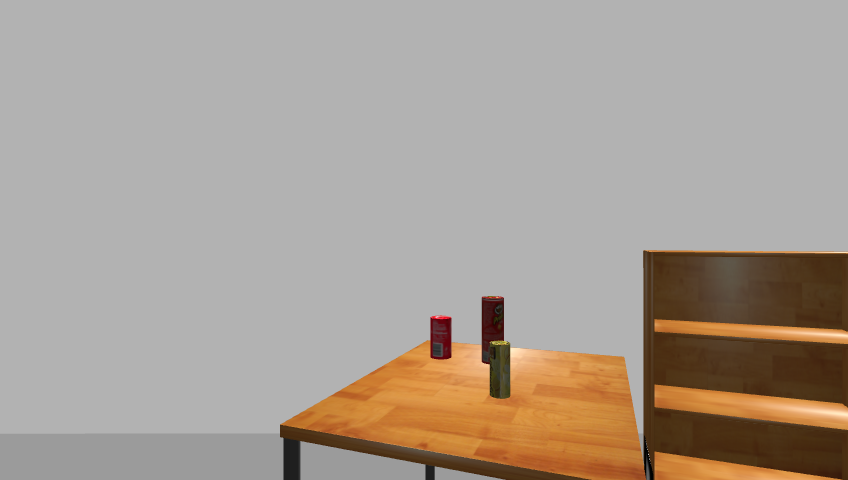biscuits pack: (489, 341, 512, 399)
bookshelf: (637, 249, 848, 479)
coke can: (428, 316, 453, 360)
dinner table: (273, 341, 655, 480)
pringles can: (478, 295, 507, 366)
